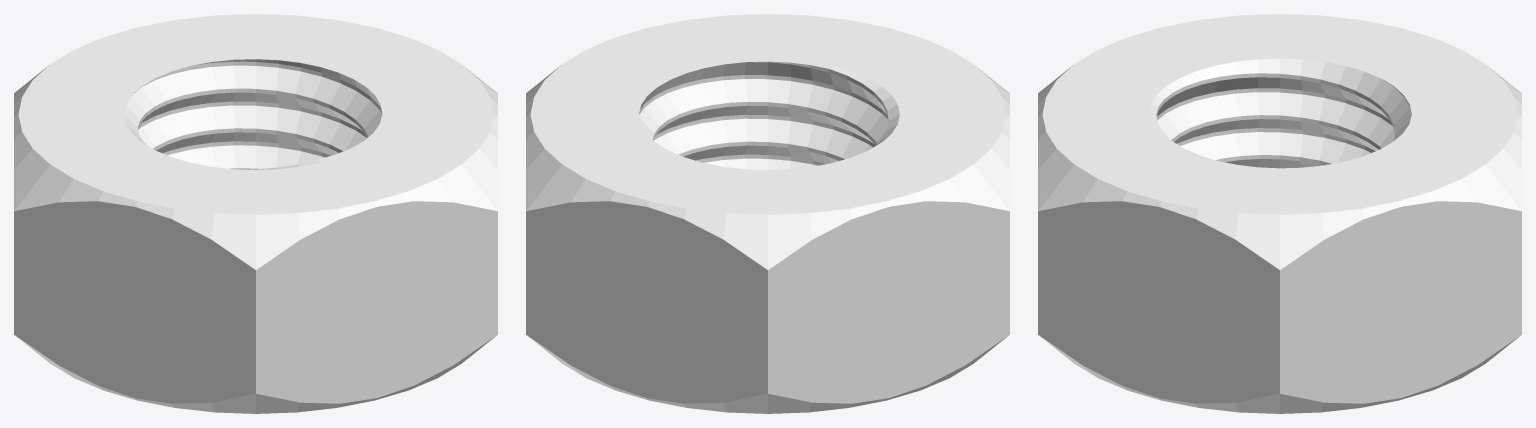
The picture shows the model from 3 angles, left to right: view 1: azimuth 30°, elevation 25°; view 2: azimuth 150°, elevation 25°; view 3: azimuth 270°, elevation 25°; orthographic projection.
Visible parts, largest first — view 1: M3; view 2: M3; view 3: M3.
Part boxes in pixels (x1=…): M3: x1=14, y1=14, x2=497, y2=413; M3: x1=526, y1=14, x2=1009, y2=413; M3: x1=1038, y1=14, x2=1521, y2=413.
Bounding box in the file's own units: 635 × 250 × 550.
1 material, 1 textured.
